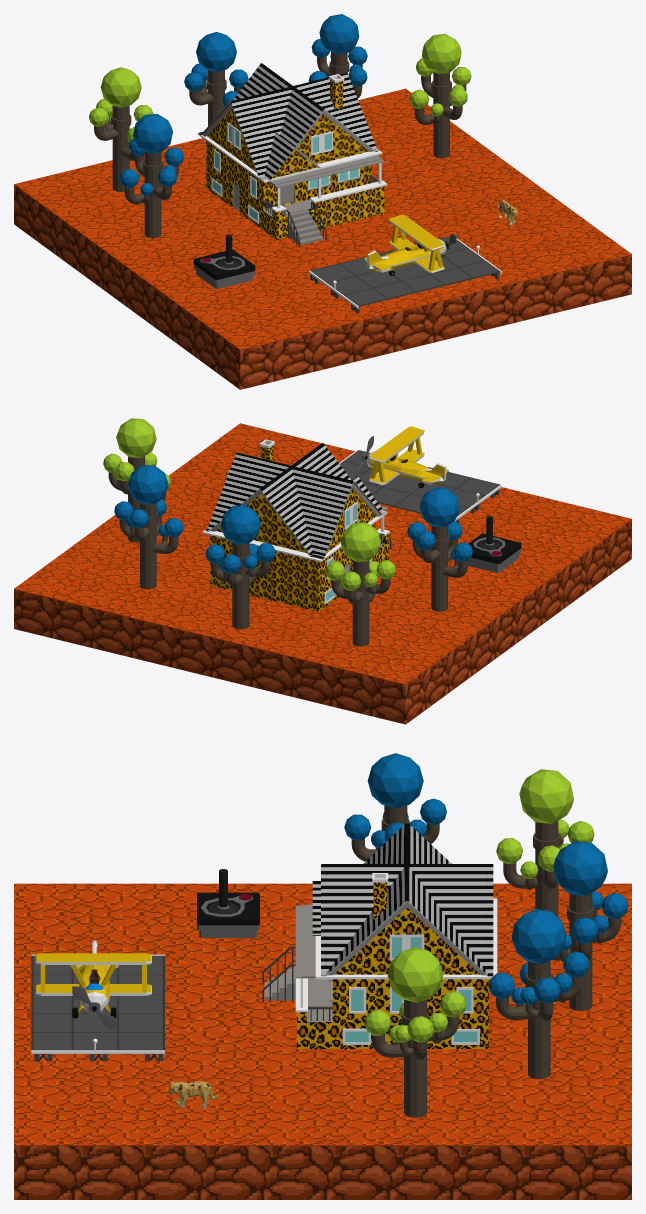
The picture shows the model from 3 angles, top to bottom: view 1: azimuth 30°, elevation 25°; view 2: azimuth 150°, elevation 25°; view 3: azimuth 270°, elevation 25°; orthographic projection. The views are drawn at different scales.
Visible parts, largest first — view 1: Cube.001, Cube.637, VEHICLES_AIRPLANE, OBJRANDOM_JOYSTICK; view 2: Cube.001, Cube.637, VEHICLES_AIRPLANE, OBJRANDOM_JOYSTICK; view 3: Cube.001, Cube.637, VEHICLES_AIRPLANE, OBJRANDOM_JOYSTICK, ANIMAL_JAGUAR.
Part boxes in pixels (bbox=[...]): Cube.001: bbox=[14, 14, 631, 389]; Cube.637: bbox=[197, 63, 387, 246]; VEHICLES_AIRPLANE: bbox=[364, 214, 456, 275]; OBJRANDOM_JOYSTICK: bbox=[193, 234, 255, 288]; Cube.001: bbox=[14, 418, 631, 724]; Cube.637: bbox=[202, 439, 391, 611]; VEHICLES_AIRPLANE: bbox=[356, 426, 448, 488]; OBJRANDOM_JOYSTICK: bbox=[468, 516, 521, 572]; Cube.001: bbox=[14, 753, 631, 1199]; Cube.637: bbox=[262, 823, 497, 1048]; VEHICLES_AIRPLANE: bbox=[35, 940, 151, 1029]; OBJRANDOM_JOYSTICK: bbox=[197, 869, 259, 937]; ANIMAL_JAGUAR: bbox=[168, 1081, 219, 1108].
Bounding box in the file's own units: 4000 × 1680 × 4000.
42 materials, 5 textured.
